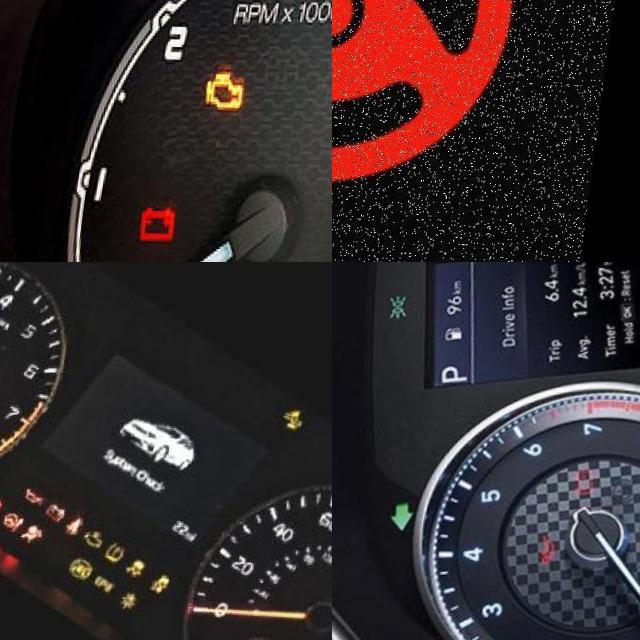Electronic Power Steering: (332, 0, 624, 262)
Seat Belt: (82, 512, 105, 534)
